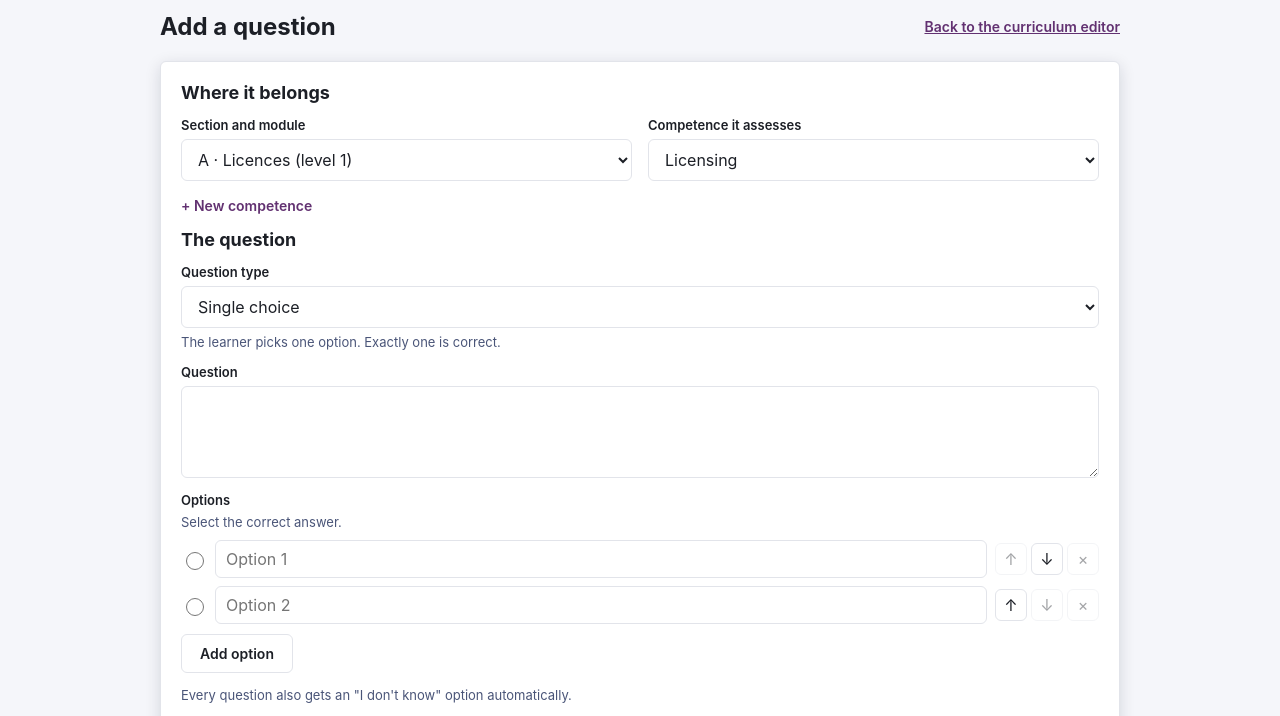
Test case: QuestionEditorPage: a new question › reports a competence that can't be added, and can cancel
This screenshot has width=1280, height=716.
Expected: the heading "Add a question" is shown, top-left (160, 12), bottom-right (336, 41)
Click the button "+ New competence" at [247, 206], box top-left (181, 197), bottom-right (312, 214)
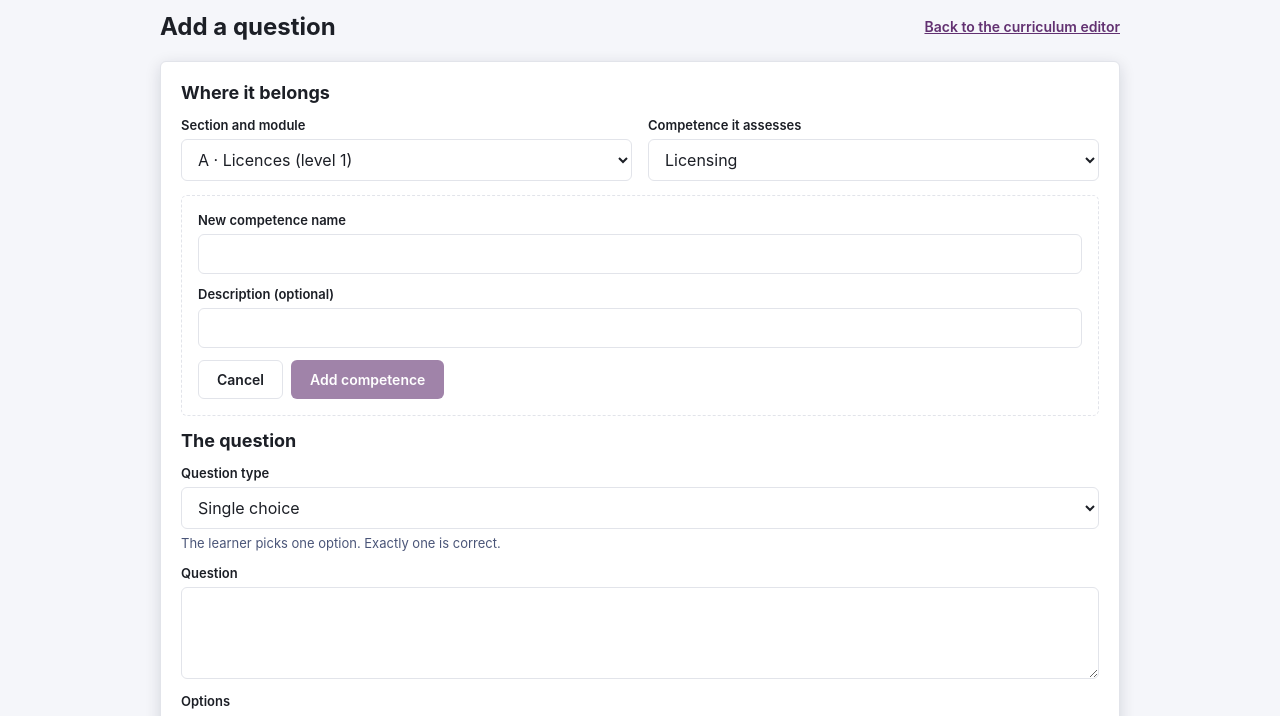
Type "Licensing" into the field labelled "New competence name" at [640, 254], box top-left (198, 234), bottom-right (1082, 274)
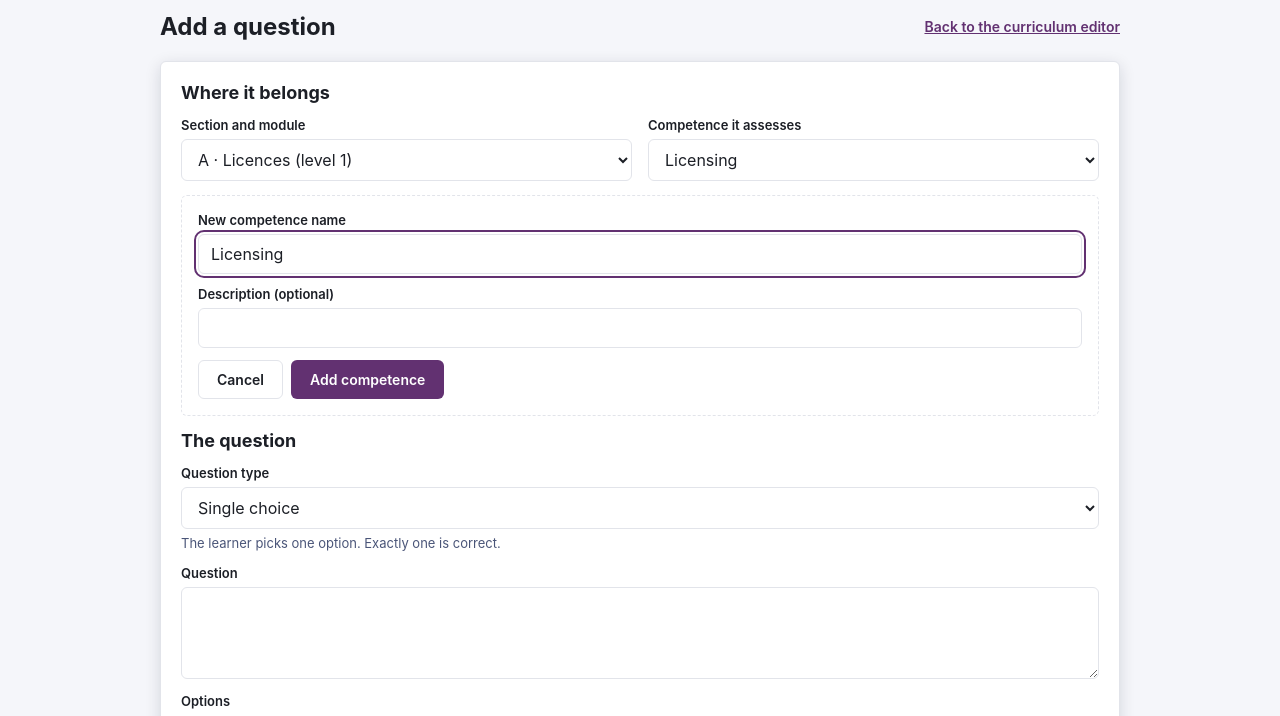
Click the button "Add competence" at [368, 380], box top-left (291, 360), bottom-right (444, 399)
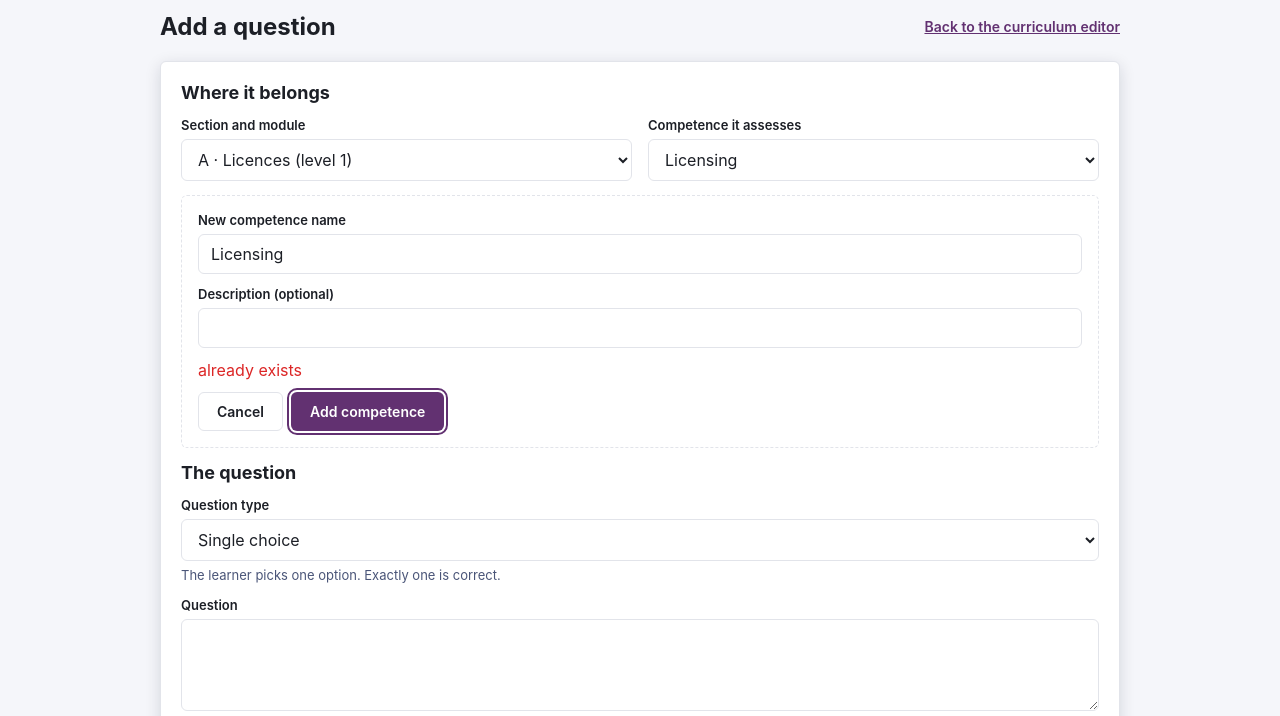
Now the message reads "already exists", box top-left (198, 360), bottom-right (302, 380)
Click the button "Cancel" at [240, 412], box top-left (198, 392), bottom-right (283, 431)
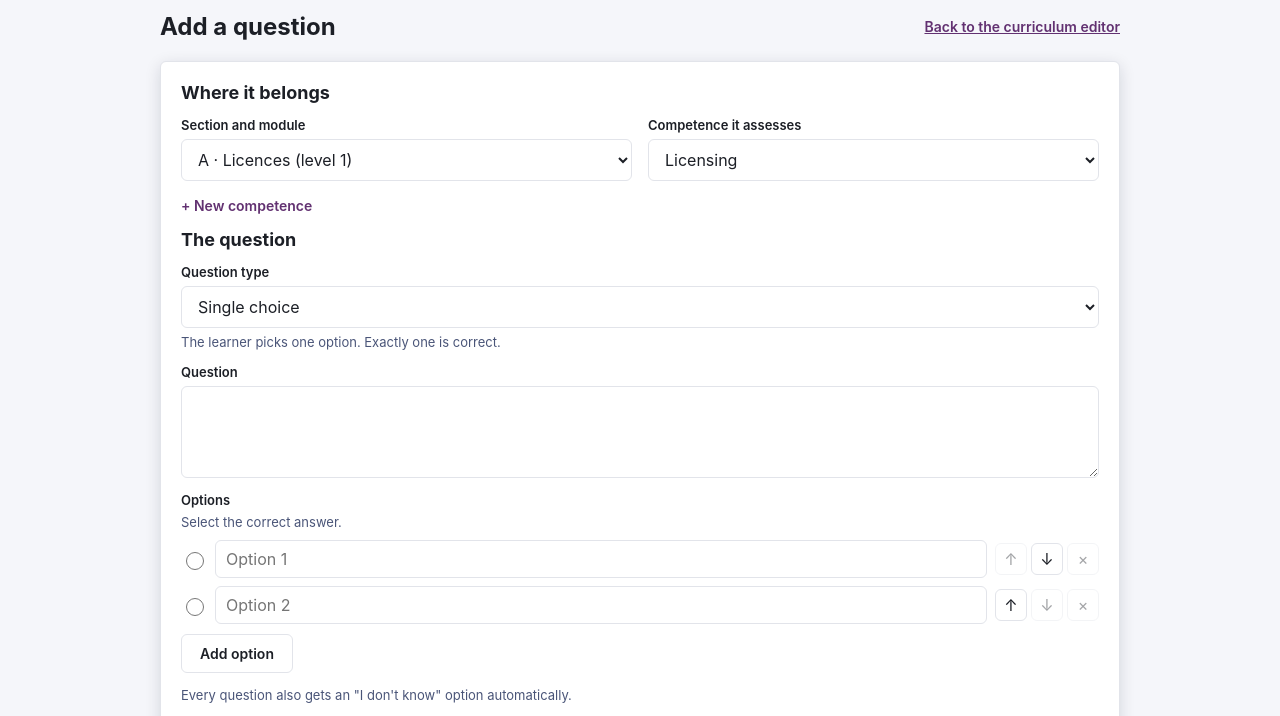
Now the text "New competence name" is gone
